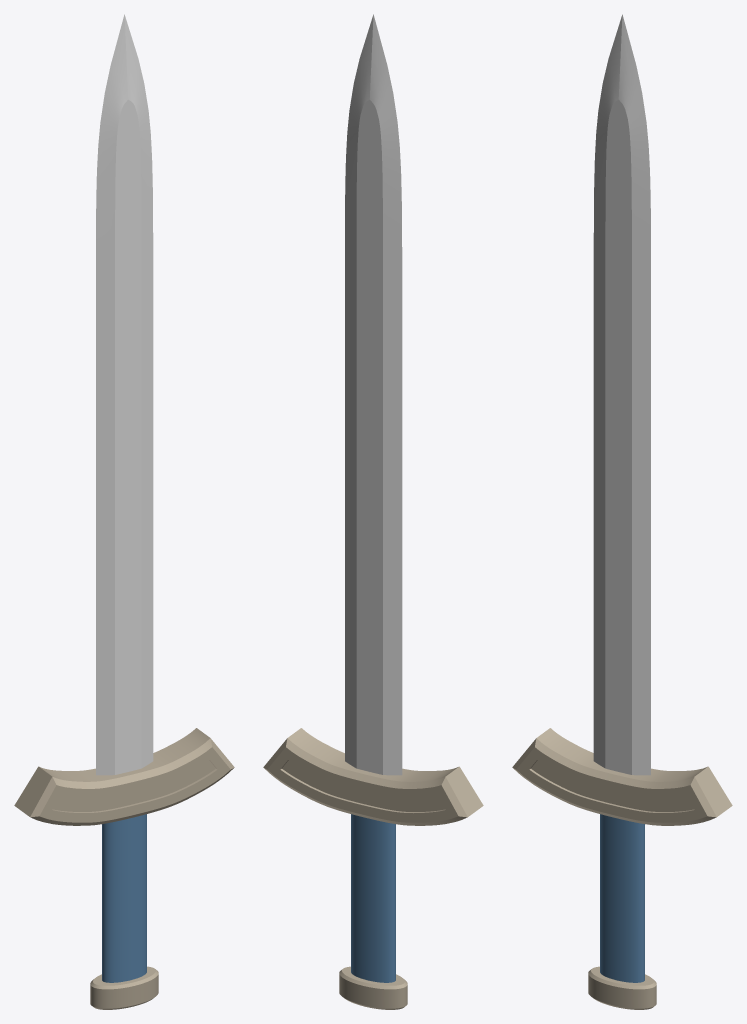
File: 865_one_handed_sword.glb
The picture shows the model from 3 angles, left to right: view 1: azimuth 30°, elevation 25°; view 2: azimuth 150°, elevation 25°; view 3: azimuth 330°, elevation 25°; orthographic projection.
Parts seen in each view (by area): view 1: Body; view 2: Body; view 3: Body.
Part boxes in pixels (x1=…): Body: x1=14, y1=14, x2=234, y2=1009; Body: x1=263, y1=14, x2=483, y2=1009; Body: x1=512, y1=14, x2=732, y2=1009.
Bounding box in the file's own units: 0.1751 × 0.8065 × 0.0331.
